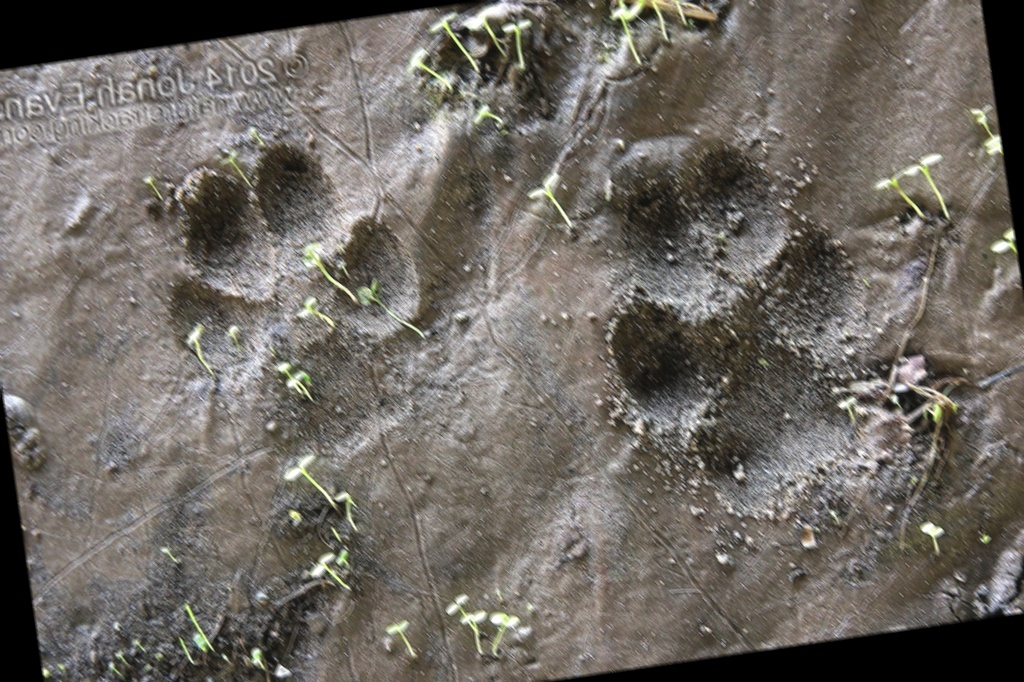coyote: (568, 113, 902, 542), (140, 131, 441, 486)
